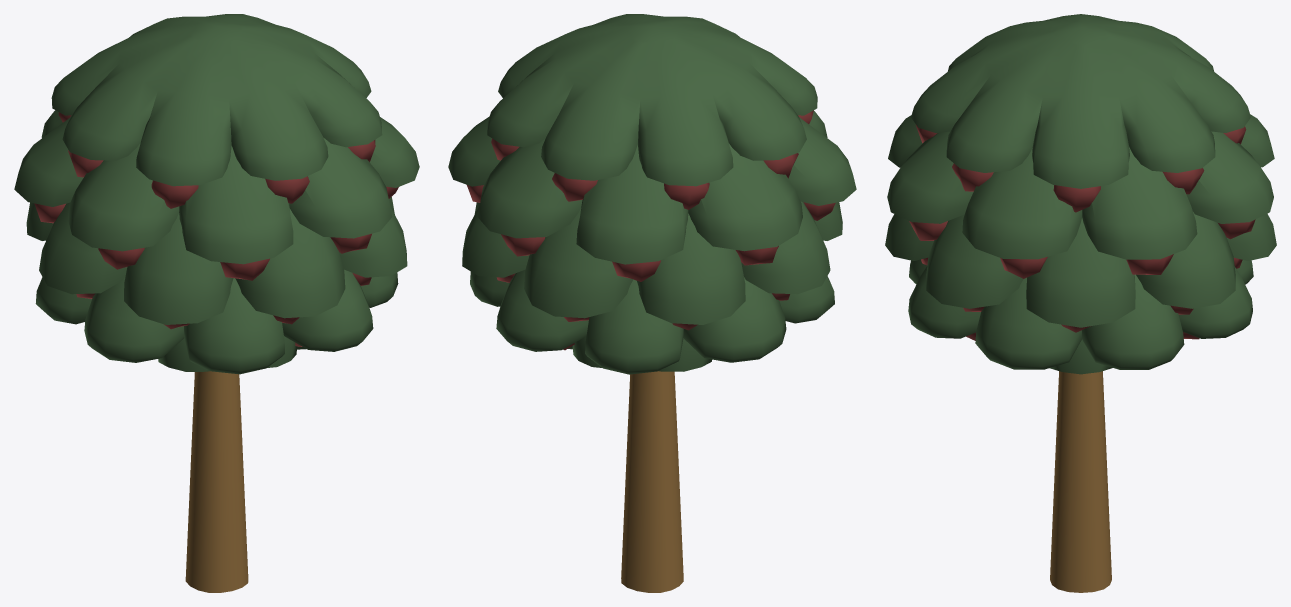
The model's file is Tree_Fruit.glb.
The picture shows the model from 3 angles, left to right: view 1: azimuth 30°, elevation 25°; view 2: azimuth 150°, elevation 25°; view 3: azimuth 270°, elevation 25°; orthographic projection.
Visible parts, largest first — view 1: Tree_Fruit; view 2: Tree_Fruit; view 3: Tree_Fruit.
Part boxes in pixels (x1,y1,x2,y2): Tree_Fruit: [14, 14, 419, 592]; Tree_Fruit: [448, 14, 856, 592]; Tree_Fruit: [885, 14, 1276, 592].
Size of the model in its own units: 5.53 by 8.63 by 5.55.
